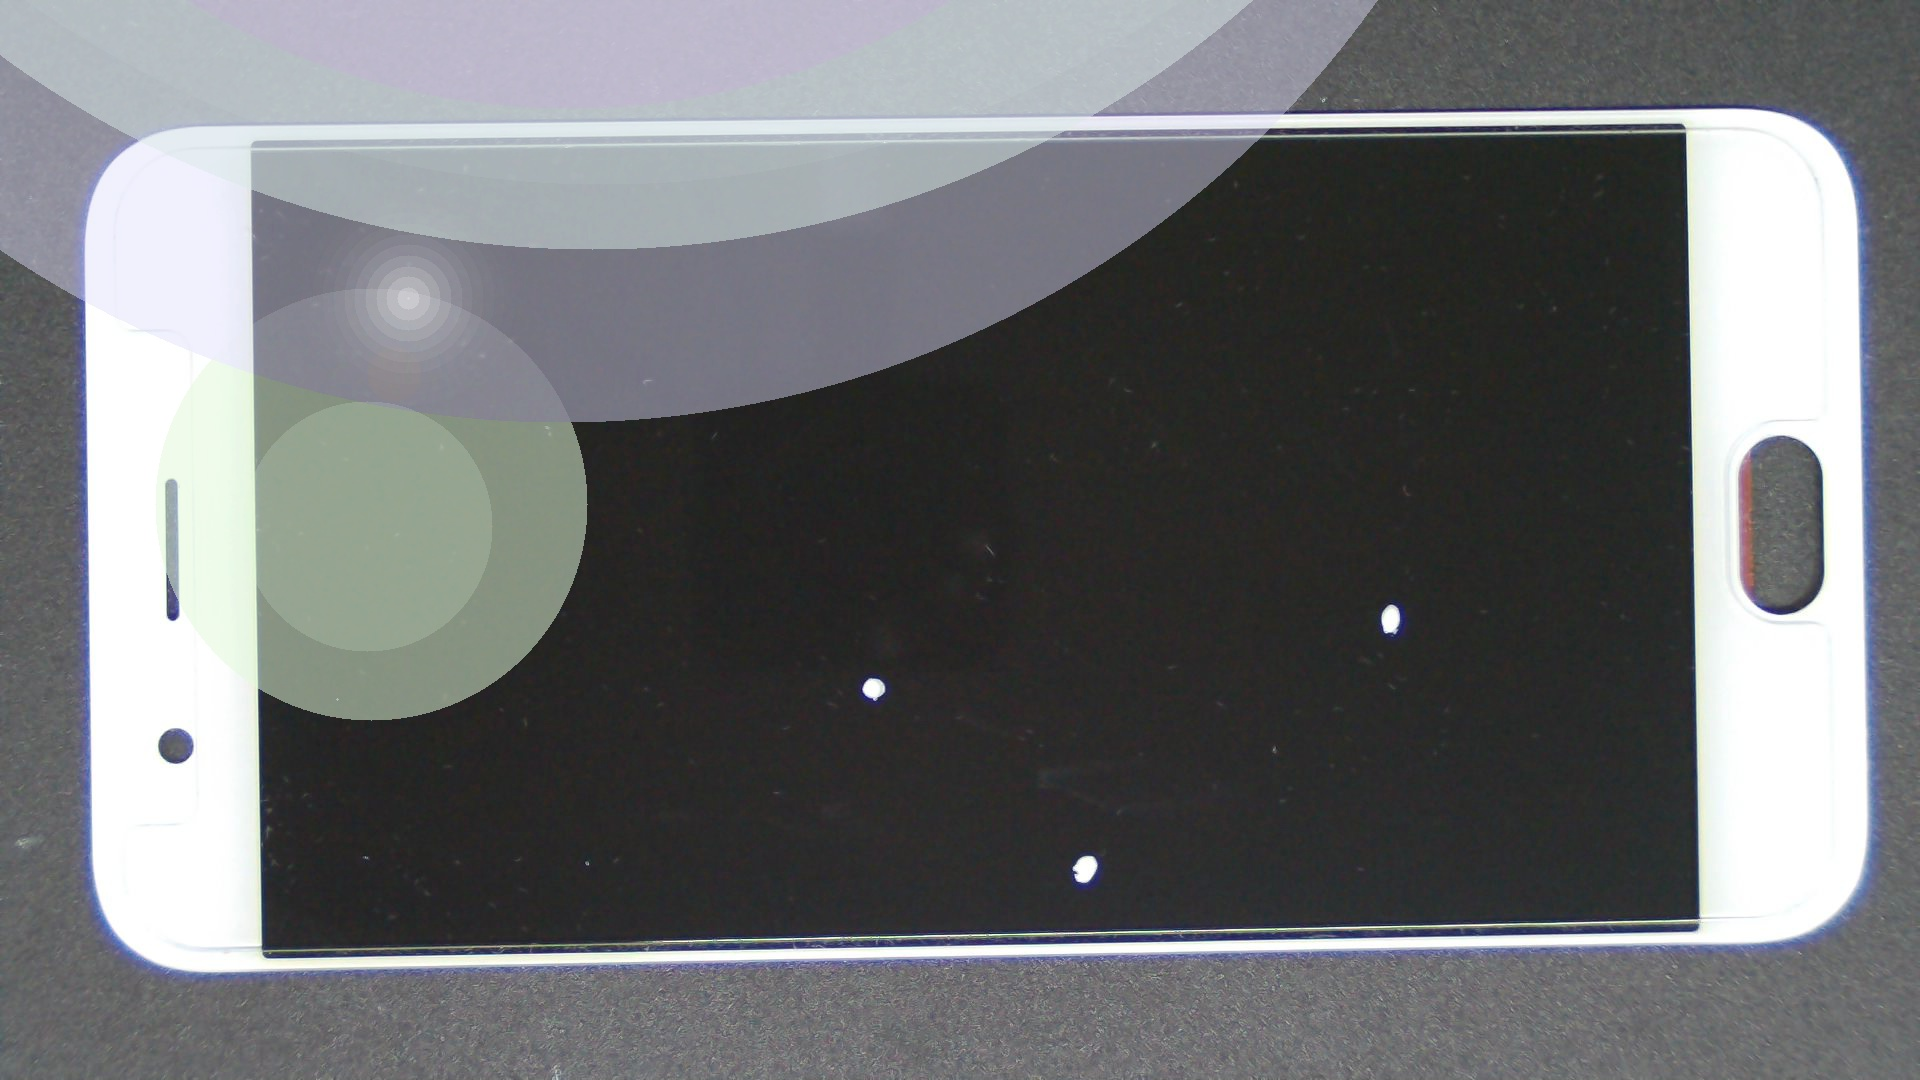oil: (695, 301, 1920, 903), (542, 426, 1626, 1080), (434, 338, 1299, 1015)
